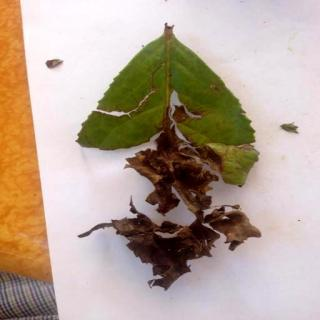Brown Blight: (77, 26, 261, 287)
